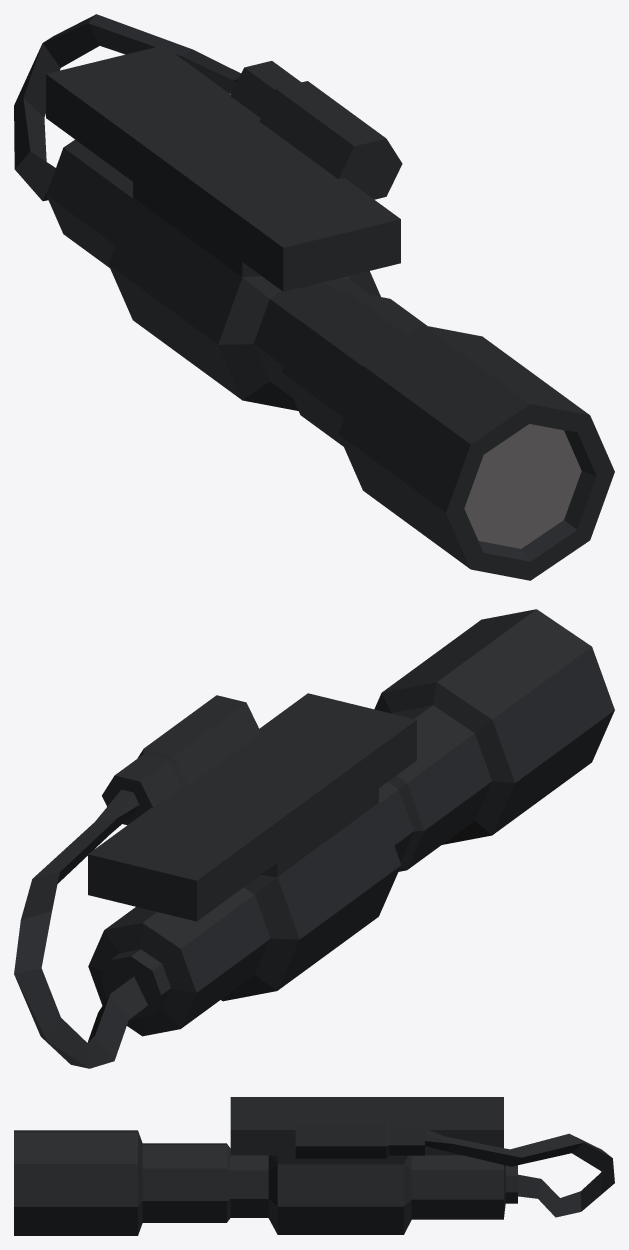
Rendered from SM_Wep_Attach_Light_01.fbx.
3 views of the same model, one above another, from view 1: azimuth 30°, elevation 25°; view 2: azimuth 150°, elevation 25°; view 3: azimuth 270°, elevation 25° (orthographic). The views are drawn at different scales.
Parts seen in each view (by area): view 1: SM_Wep_Attach_Light_01; view 2: SM_Wep_Attach_Light_01; view 3: SM_Wep_Attach_Light_01.
Boxes of the visible parts, box(x1,y1,x2,y2) form: SM_Wep_Attach_Light_01: box(14, 14, 614, 580); SM_Wep_Attach_Light_01: box(14, 609, 614, 1068); SM_Wep_Attach_Light_01: box(14, 1097, 614, 1235).
Bounding box in the file's own units: 5.54 × 6.27 × 24.89.
Materials: 1 (1 with a texture image).
